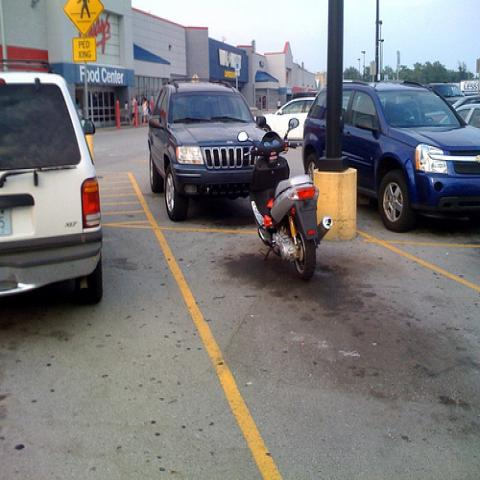car: (302, 81, 479, 231), (2, 71, 104, 304), (148, 81, 266, 224), (259, 98, 312, 140), (455, 102, 479, 132), (446, 90, 479, 108), (429, 84, 463, 98)
motorcycle: (239, 122, 332, 275)
